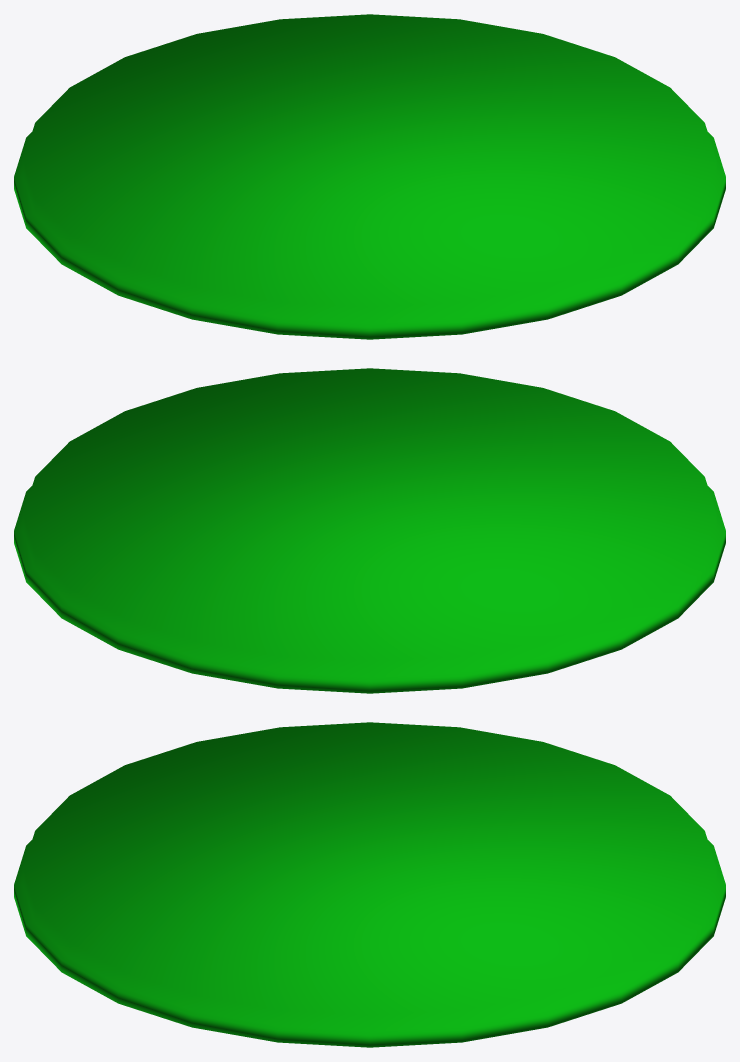
File: MOD_Carousel_Plat.FBX
The picture shows the model from 3 angles, top to bottom: view 1: azimuth 30°, elevation 25°; view 2: azimuth 150°, elevation 25°; view 3: azimuth 270°, elevation 25°; orthographic projection.
Parts seen in each view (by area): view 1: MOD_Carousel_Plat; view 2: MOD_Carousel_Plat; view 3: MOD_Carousel_Plat.
Boxes of the visible parts, box(x1,y1,x2,y2) form: MOD_Carousel_Plat: box(14, 14, 725, 339); MOD_Carousel_Plat: box(14, 368, 725, 693); MOD_Carousel_Plat: box(14, 722, 725, 1047).
Bounding box in the file's own units: 15.25 × 3.1 × 15.25.
